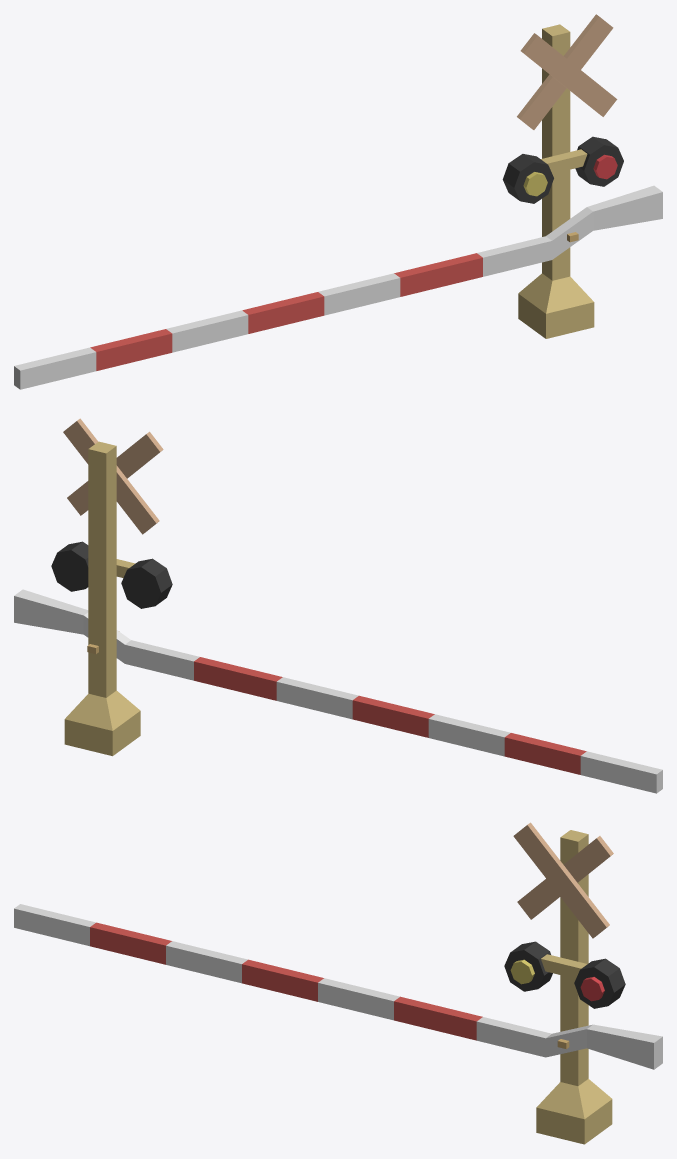
Rendered from TrainGate.fbx.
The picture shows the model from 3 angles, top to bottom: view 1: azimuth 30°, elevation 25°; view 2: azimuth 150°, elevation 25°; view 3: azimuth 330°, elevation 25°; orthographic projection.
Visible parts, largest first — view 1: Gate1, Cube.005, Cylinder, Gate2; view 2: Cube.005, Gate1, Cylinder, Gate2; view 3: Gate1, Cube.005, Cylinder, Gate2.
Part boxes in pixels (left/top/right/bottom): Gate1: left=14, top=236, right=551, bottom=389; Cube.005: left=517, top=14, right=617, bottom=338; Cylinder: left=502, top=136, right=623, bottom=203; Gate2: left=546, top=185, right=662, bottom=259; Cube.005: left=63, top=418, right=163, bottom=756; Gate1: left=124, top=640, right=662, bottom=793; Cylinder: left=51, top=541, right=172, bottom=608; Gate2: left=14, top=589, right=130, bottom=663; Gate1: left=14, top=904, right=551, bottom=1057; Cube.005: left=513, top=822, right=613, bottom=1144; Cylinder: left=504, top=941, right=625, bottom=1008; Gate2: left=545, top=1024, right=662, bottom=1069.
Size of the model in its own units: 374 by 171 by 31.24.
